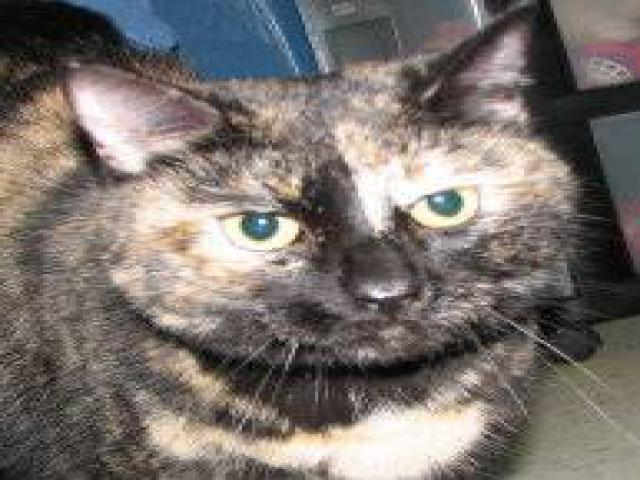cat: (3, 1, 620, 479)
